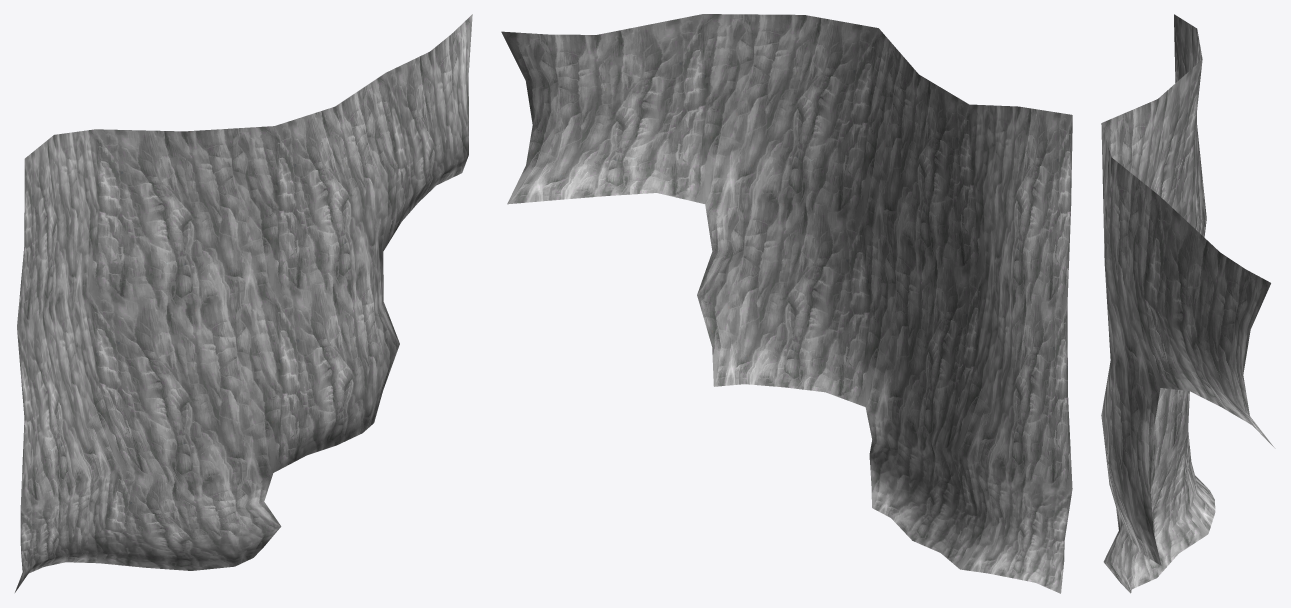
File: SWORDLIGHT20_PS-AREA03_168.fbx
3 renders of one model, left to right at view 1: azimuth 30°, elevation 25°; view 2: azimuth 150°, elevation 25°; view 3: azimuth 270°, elevation 25°, orthographic. The views are drawn at different scales.
Visible parts, largest first — view 1: SWORDLIGHT20_PS-AREA03_168; view 2: SWORDLIGHT20_PS-AREA03_168; view 3: SWORDLIGHT20_PS-AREA03_168.
Part boxes in pixels (<box>): SWORDLIGHT20_PS-AREA03_168: <box>15,14,472,592</box>; SWORDLIGHT20_PS-AREA03_168: <box>501,14,1072,593</box>; SWORDLIGHT20_PS-AREA03_168: <box>1101,14,1275,593</box>.
Bounding box in the file's own units: 290045 × 252825 × 82434.
1 material, 1 textured.
